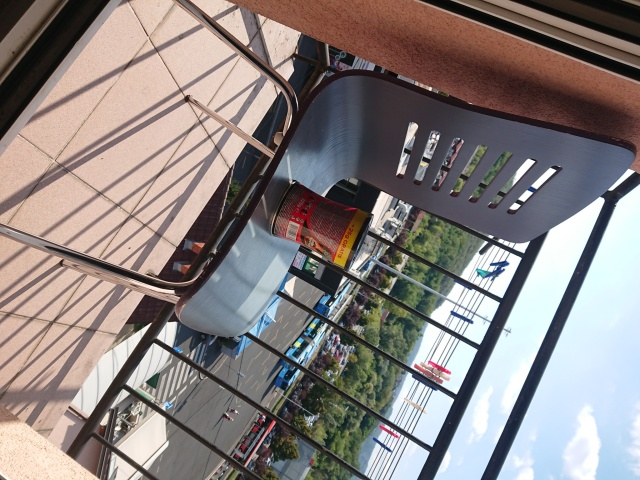Nescafe Classic 225g: (266, 178, 376, 273)
